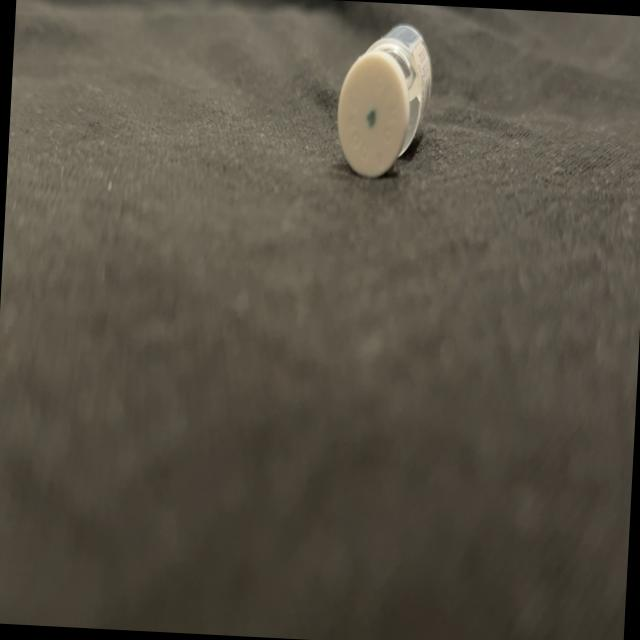fentanl_citrat: (335, 23, 433, 179)
